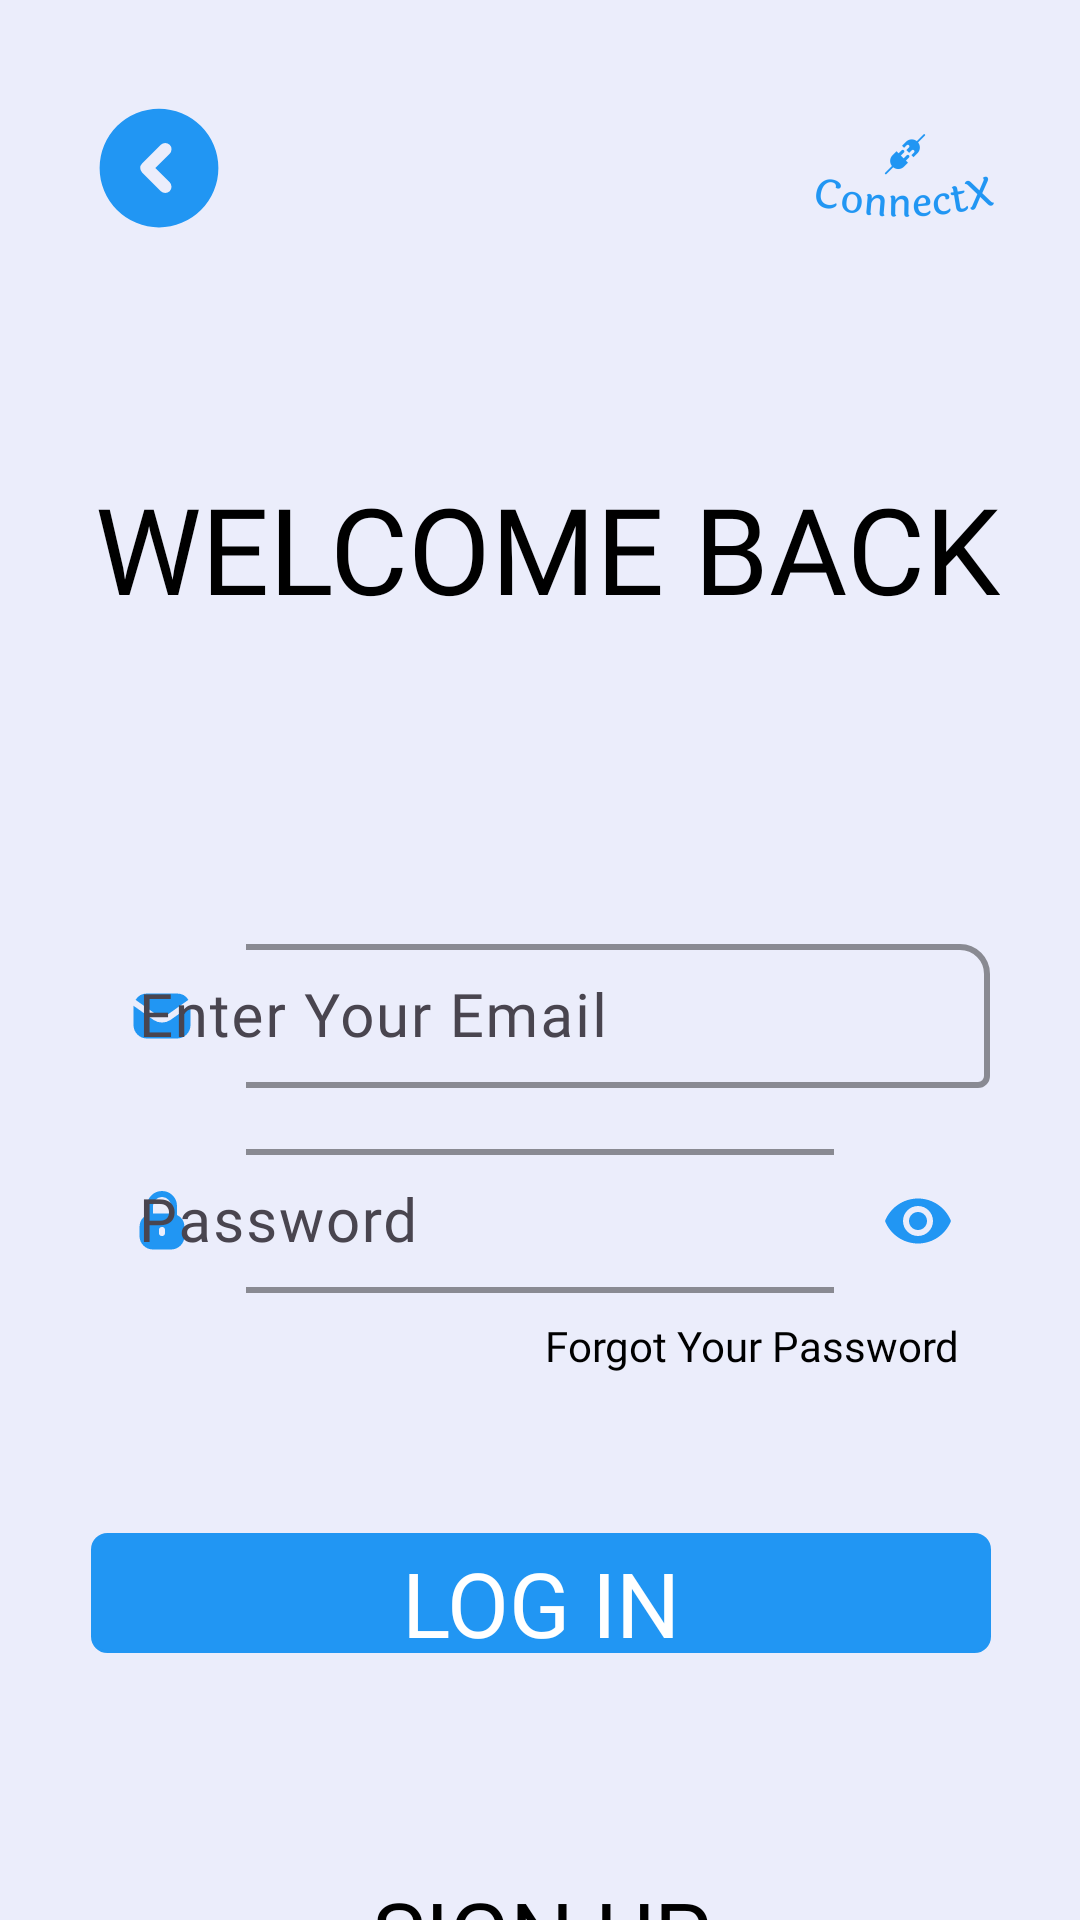

Named icons in this screenshot (1080×1920) and their bounding boxes, region(x1, y1, x2, y2):
backbutton: region(99, 108, 219, 228)
